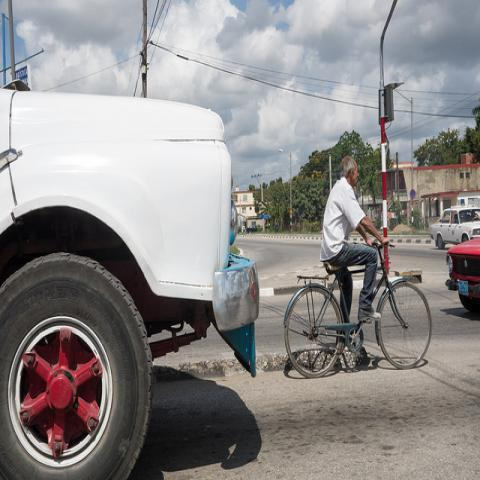car: (445, 235, 479, 314), (428, 204, 480, 254), (247, 225, 262, 233)
truck: (0, 88, 259, 474)
